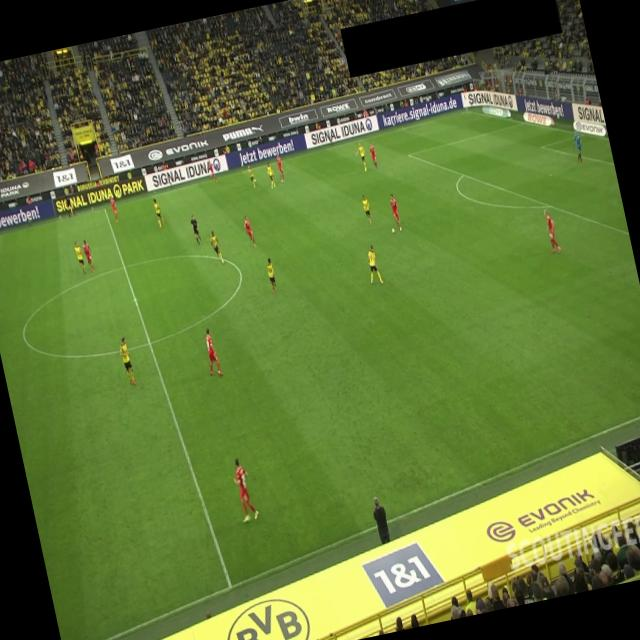ball: (390, 226, 396, 234)
goalkeeper: (571, 130, 586, 164)
player: (228, 455, 260, 523), (200, 326, 223, 378), (116, 336, 136, 386), (362, 242, 384, 286), (542, 207, 562, 254), (208, 228, 225, 264), (80, 238, 96, 273), (388, 192, 402, 231), (72, 239, 87, 275), (264, 256, 278, 294), (353, 141, 369, 172), (242, 215, 256, 248), (360, 194, 374, 226), (152, 196, 166, 228), (274, 152, 286, 182), (108, 194, 120, 223), (264, 160, 276, 188), (206, 159, 218, 184), (368, 142, 378, 170), (246, 162, 256, 188)
referee: (188, 212, 202, 245), (62, 189, 76, 218)
